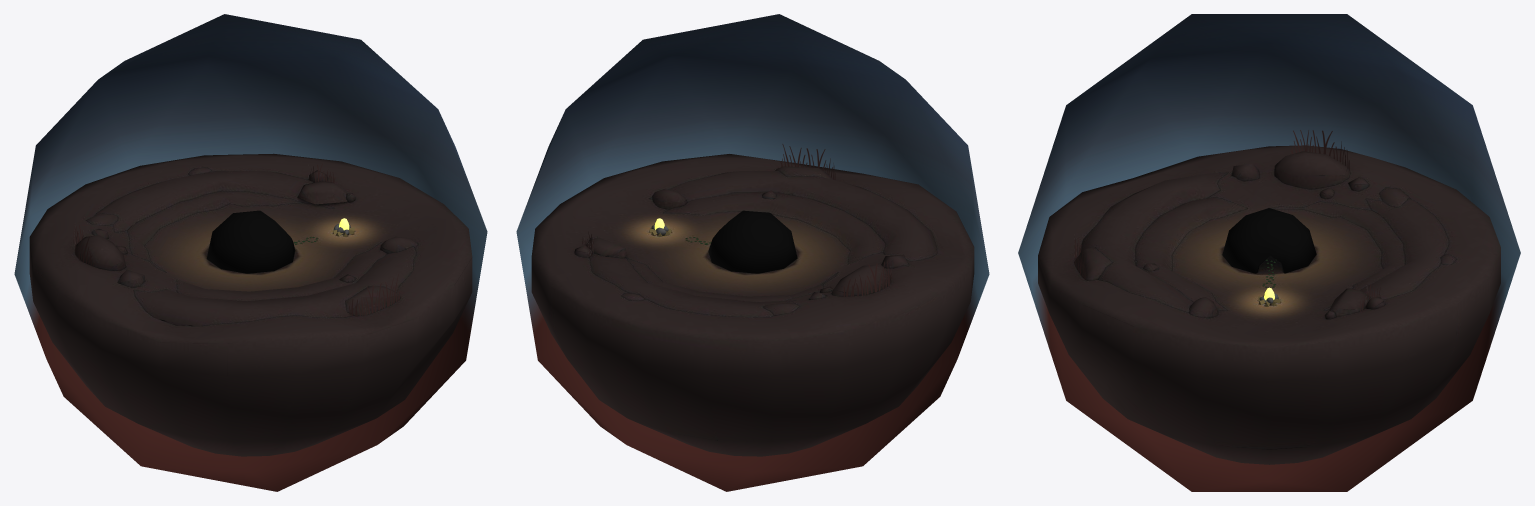
The picture shows the model from 3 angles, left to right: view 1: azimuth 30°, elevation 25°; view 2: azimuth 150°, elevation 25°; view 3: azimuth 270°, elevation 25°; orthographic projection. The views are drawn at different scales.
Visible parts, largest first — view 1: ground.007, envirosphere.005, lodge.005, GRASS.017; view 2: ground.007, envirosphere.005, lodge.005, GRASS.016; view 3: ground.007, envirosphere.005, lodge.005, GRASS.016.
Part boxes in pixels (x1,y1,x2,y2): ground.007: (29, 153, 472, 456); envirosphere.005: (14, 14, 487, 491); lodge.005: (207, 210, 295, 273); GRASS.017: (348, 273, 401, 316); ground.007: (531, 154, 974, 456); envirosphere.005: (516, 14, 989, 491); lodge.005: (708, 210, 797, 273); GRASS.016: (843, 261, 891, 296); ground.007: (1038, 145, 1500, 464); envirosphere.005: (1018, 14, 1520, 491); lodge.005: (1222, 208, 1316, 273); GRASS.016: (1290, 130, 1349, 170).
Size of the model in its own units: 13.02 by 13.69 by 13.69.
Materials: 9 (3 with a texture image).
